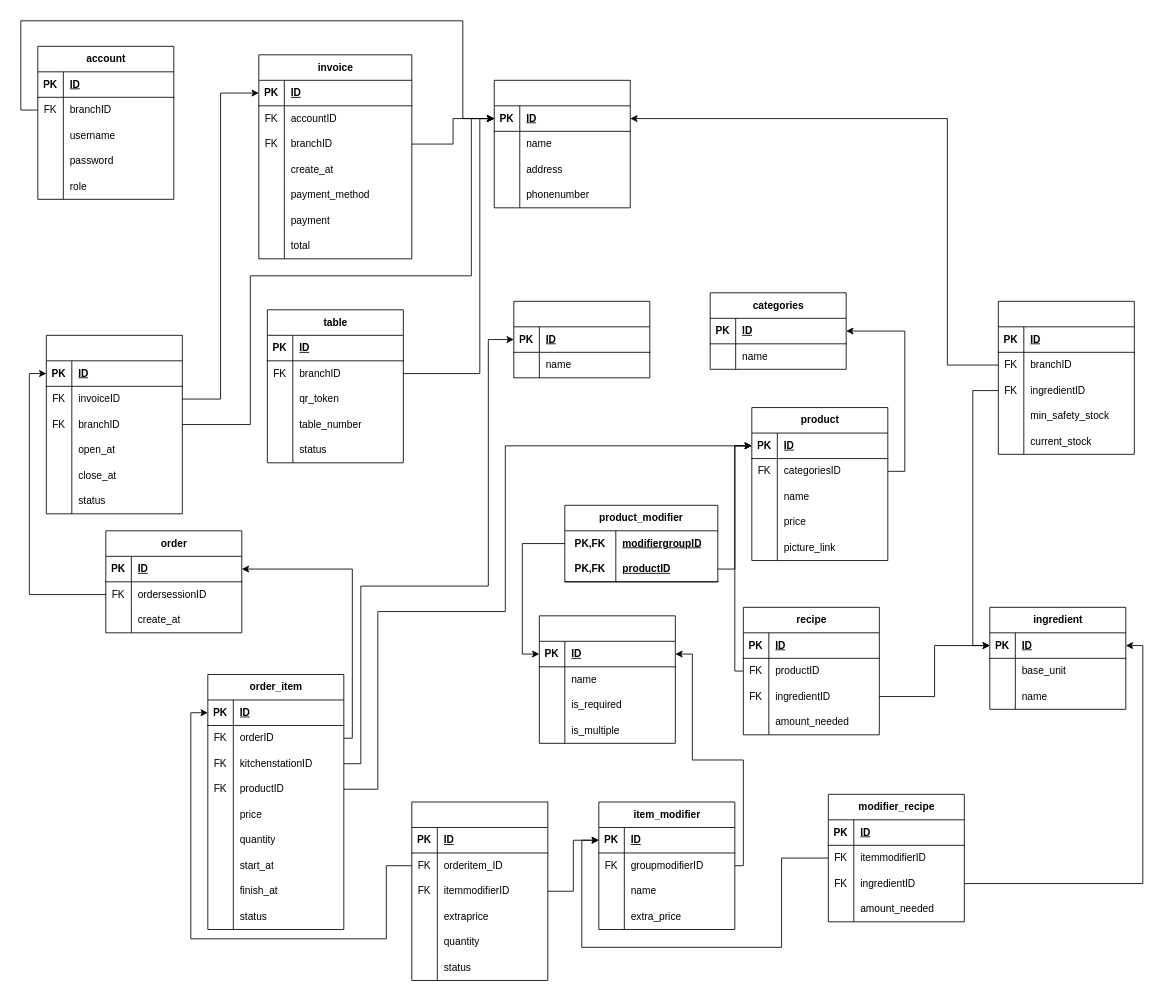
This 1165x995 diagram has some shape labels left out. The shapes that lost their labels are listed below. From the top down, each one's box as (x1, y1, x2, y2) in pixels, then its label:
(493, 79, 630, 208): branch
(513, 300, 650, 378): kitchen_station
(997, 300, 1134, 454): inventories
(45, 334, 182, 514): order_session
(538, 615, 675, 743): modifier_group
(411, 801, 548, 980): order_item_modifier
